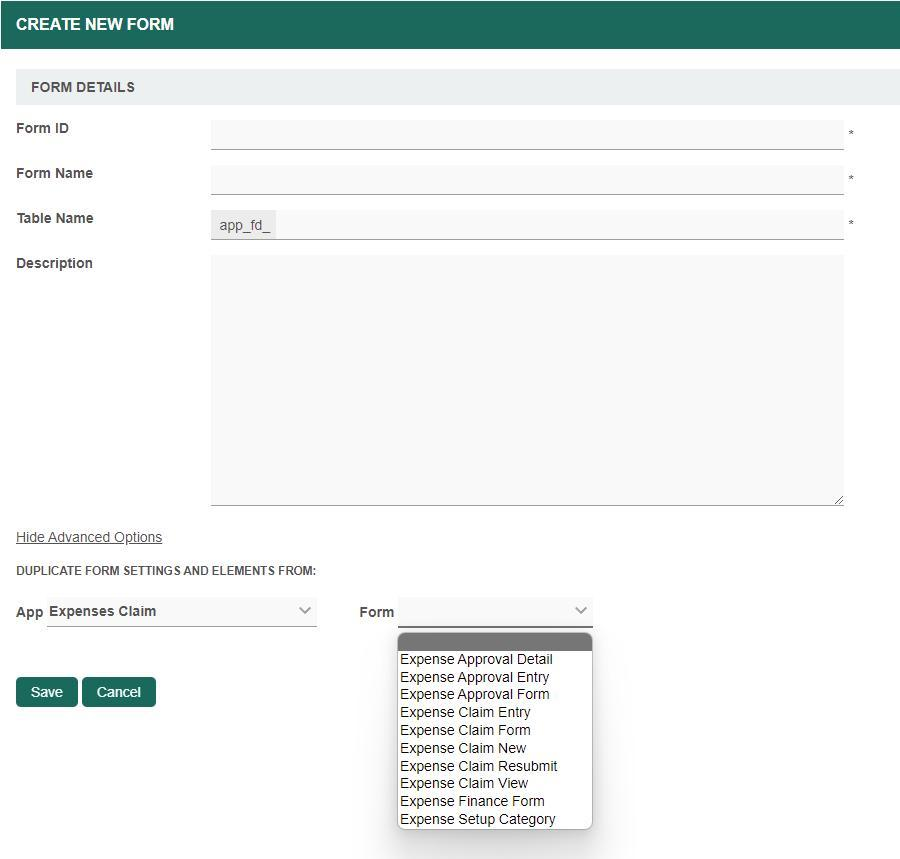button: (83, 676, 158, 708), (16, 678, 81, 709)
dropdown: (47, 600, 318, 628), (399, 598, 594, 628)
input: (210, 120, 846, 152), (212, 210, 845, 241), (212, 166, 844, 196)
label: (8, 204, 104, 236), (8, 155, 102, 185), (11, 253, 98, 282), (8, 119, 83, 143), (11, 604, 45, 625), (358, 605, 397, 622)
